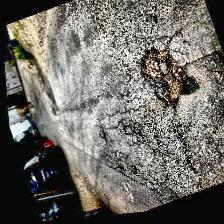pothole: (130, 38, 197, 118)
